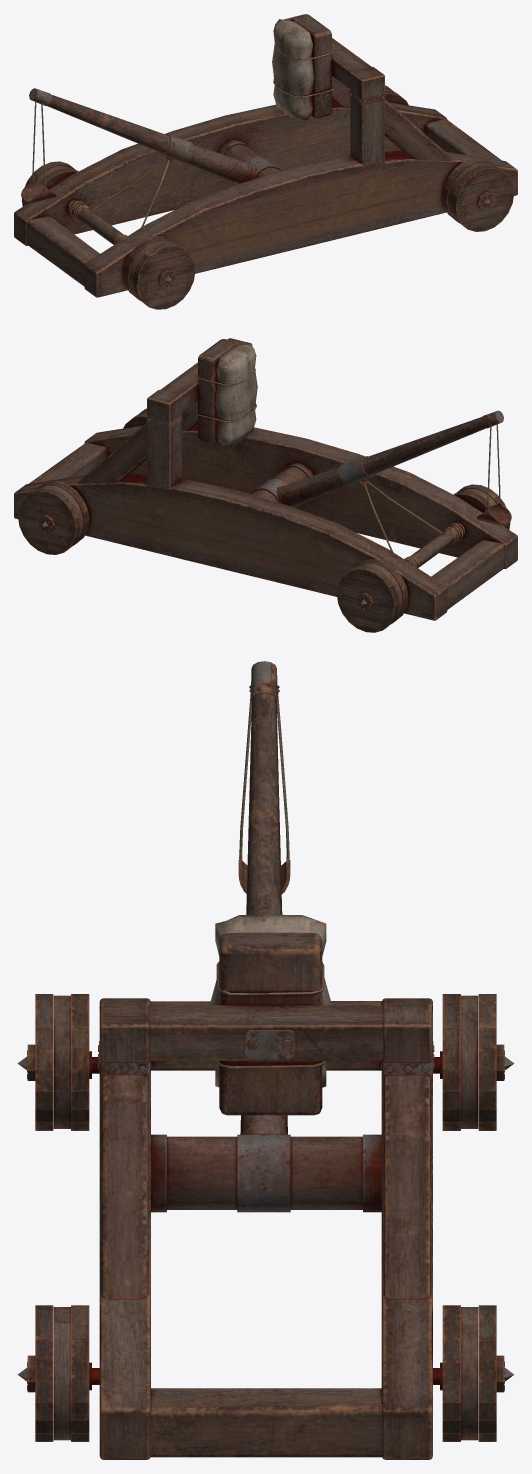
The model's file is siege-mangonel.glb.
3 renders of one model, top to bottom at view 1: azimuth 30°, elevation 25°; view 2: azimuth 150°, elevation 25°; view 3: azimuth 270°, elevation 25°, orthographic. The views are drawn at different scales.
Visible parts, largest first — view 1: SM_Mangonel_wood_M_Mangonel_0; view 2: SM_Mangonel_wood_M_Mangonel_0; view 3: SM_Mangonel_wood_M_Mangonel_0.
Boxes of the visible parts, x1,y1,x2,y2 form: SM_Mangonel_wood_M_Mangonel_0: (14,14,517,309); SM_Mangonel_wood_M_Mangonel_0: (14,338,517,632); SM_Mangonel_wood_M_Mangonel_0: (17,661,514,1459).
Bounding box in the file's own units: 6.71 × 2.79 × 3.19.
Materials: 1 (1 with a texture image).
